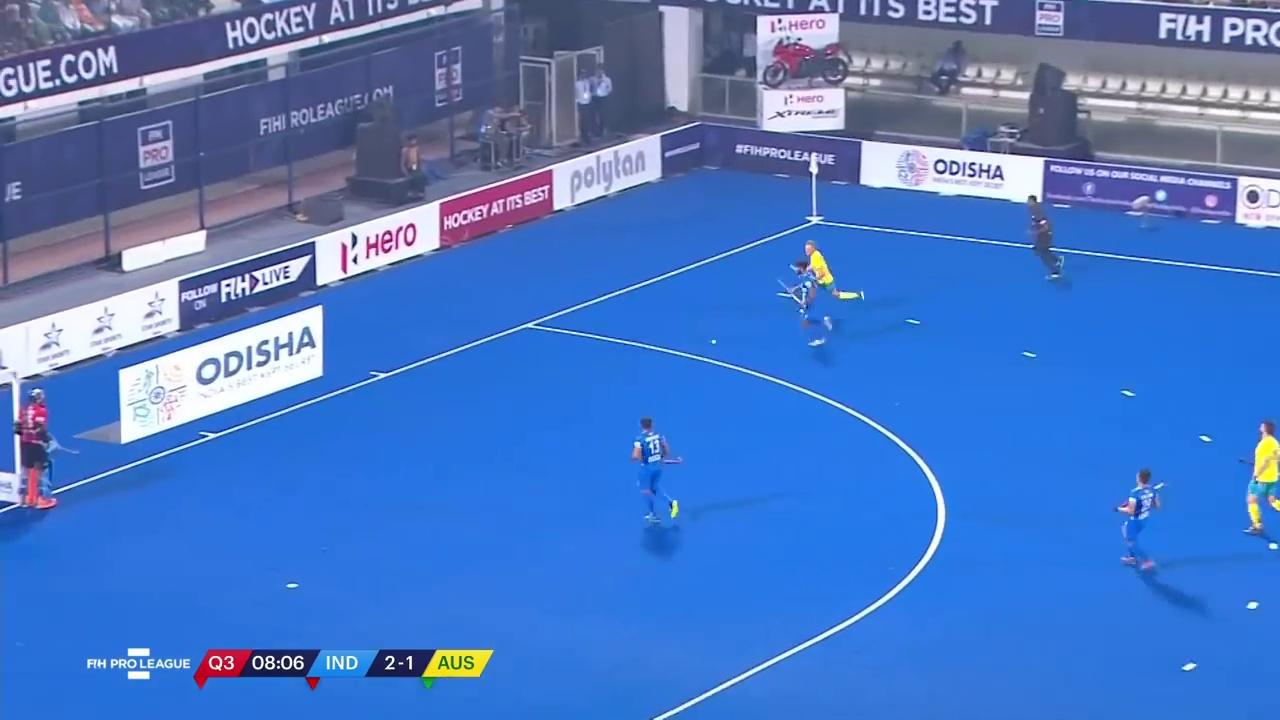ball: (703, 334, 724, 349)
